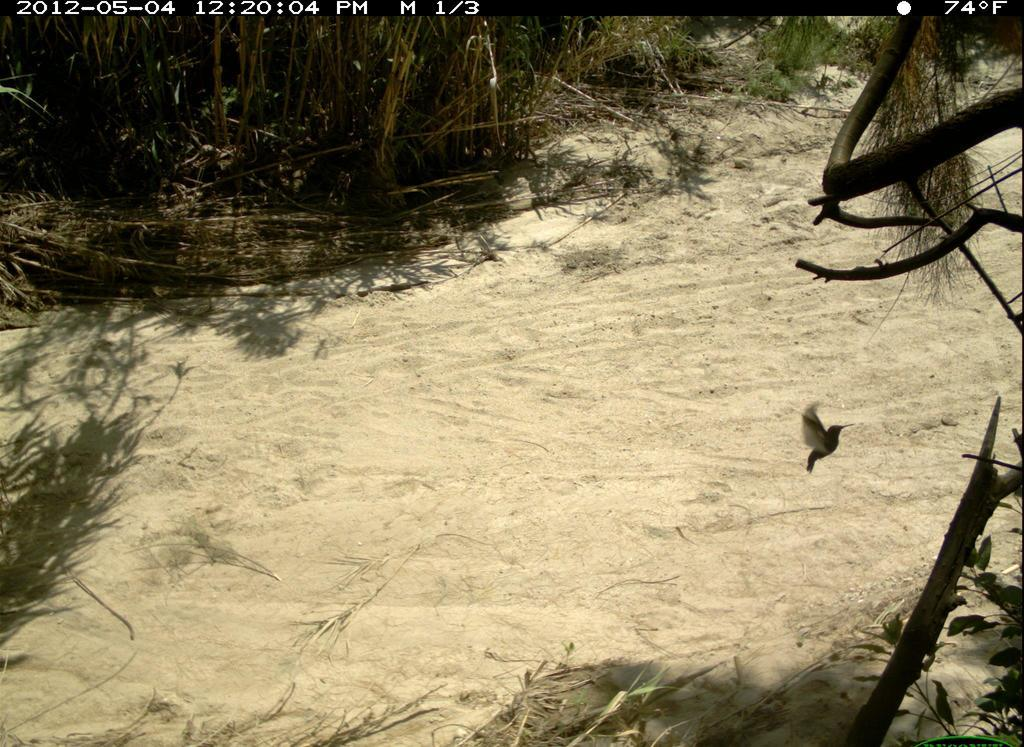bird: (788, 391, 865, 486)
